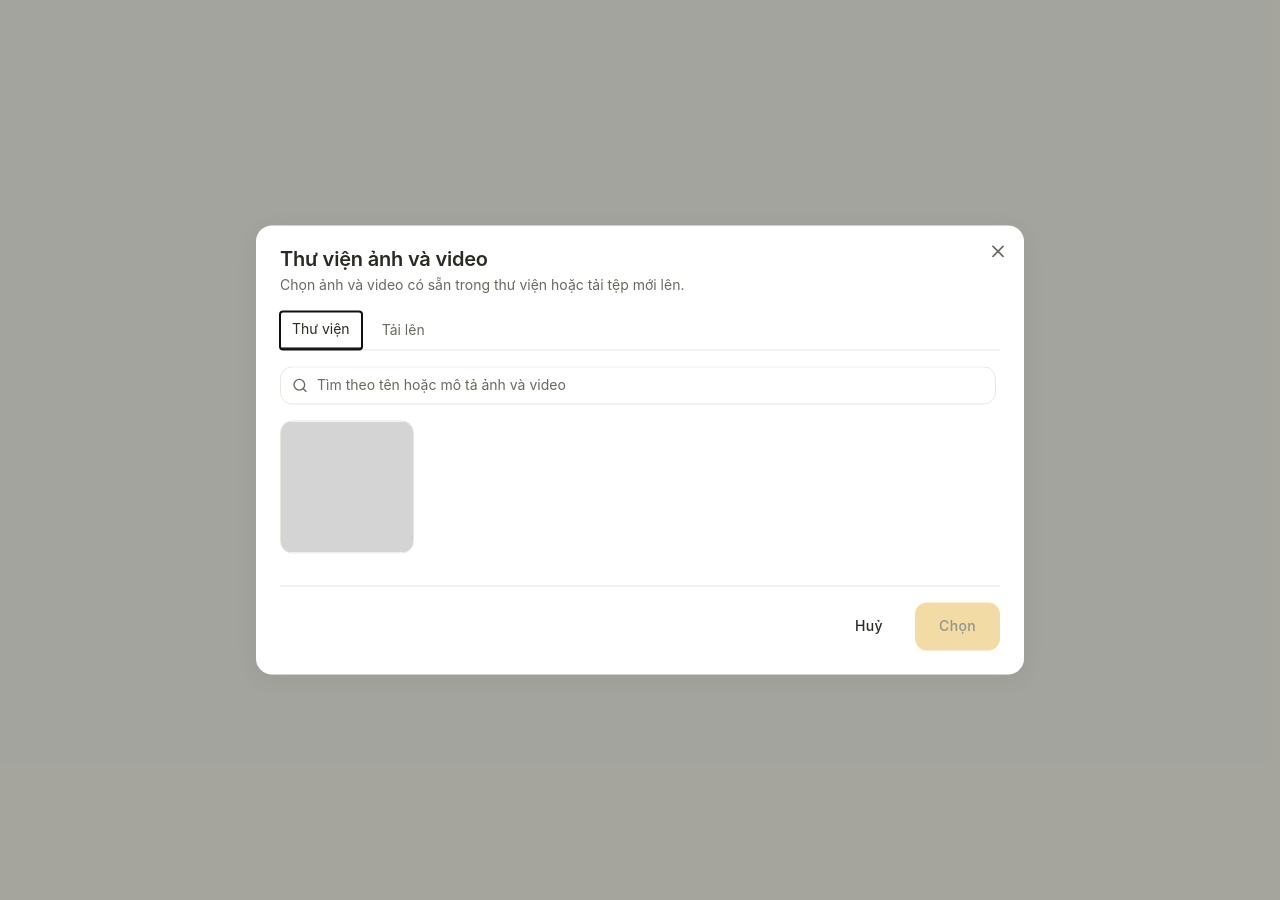
MediaLibraryModal › exposes video upload copy and accepted formats when the caller allows video
Expected: the heading "Thư viện ảnh và video" is shown, [280, 247, 488, 271]
Click the button "Tải lên" at [403, 330], box [370, 311, 437, 349]
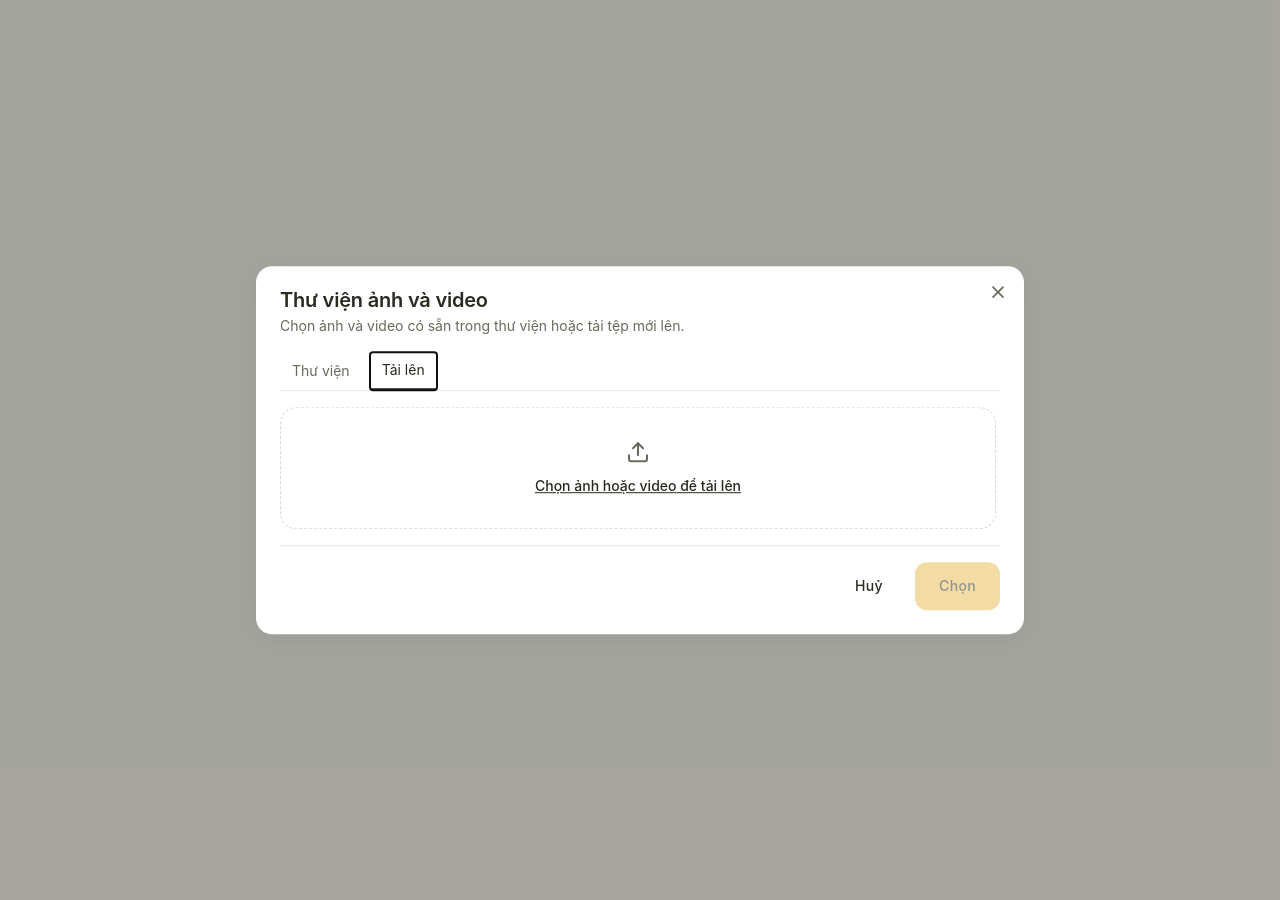
Result: the button "Chọn ảnh hoặc video để tải lên" is shown at [535, 476, 741, 496]
